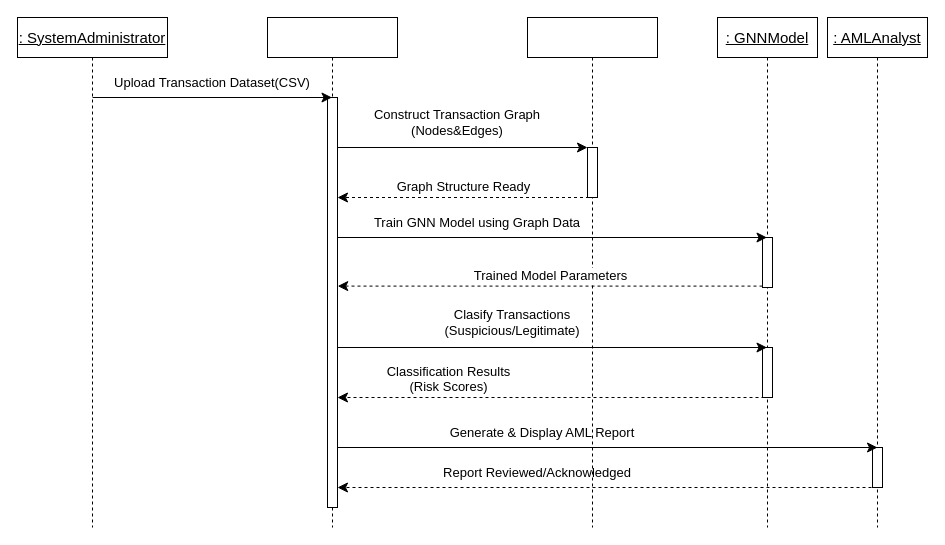
Some shapes in this 945 by 545 pixel diagram are drawn without their labels. The box of each missing label's shape, as (x1, y1, x2, y2) in pixels:
: AMLGNNSystem: (266, 16, 398, 528)
: TransactionGraph: (526, 16, 658, 528)
